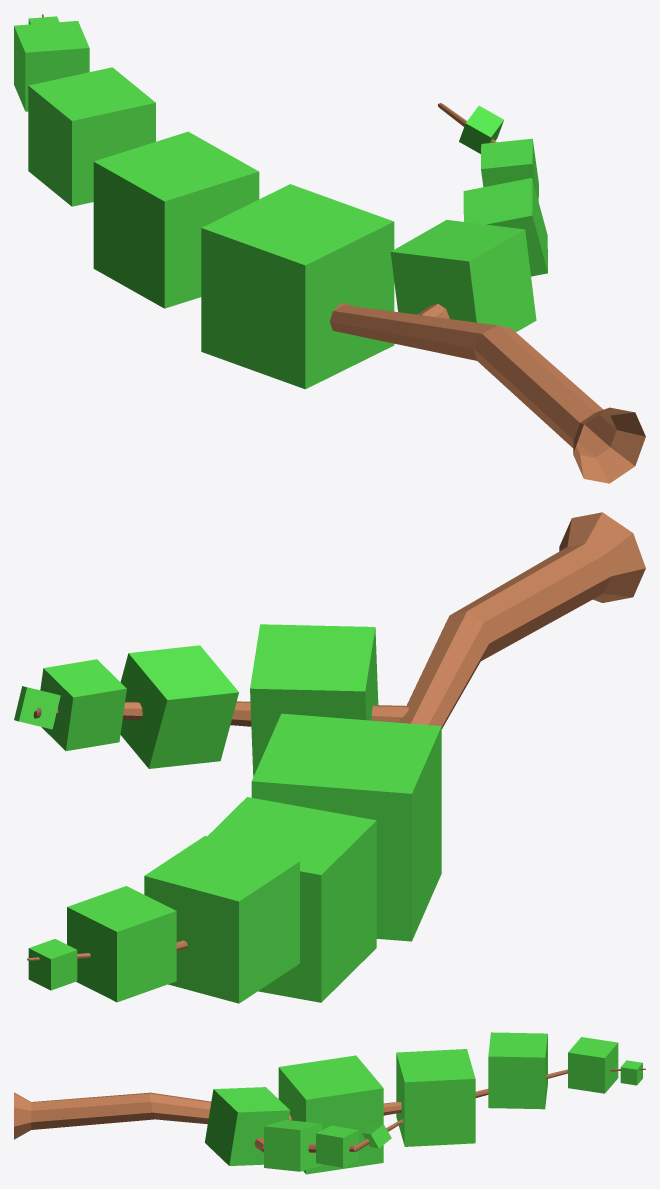
Rendered from Árbol 4.fbx.
3 renders of one model, top to bottom at view 1: azimuth 30°, elevation 25°; view 2: azimuth 150°, elevation 25°; view 3: azimuth 270°, elevation 25°, orthographic. The views are drawn at different scales.
Parts seen in each view (by area): view 1: Circle.001; view 2: Circle.001; view 3: Circle.001.
Part boxes in pixels (box(x1,y1,x2,y2)): Circle.001: box(14, 14, 645, 483); Circle.001: box(14, 512, 645, 1003); Circle.001: box(14, 1032, 645, 1174).
Size of the model in its own units: 531 by 235 by 1401.
